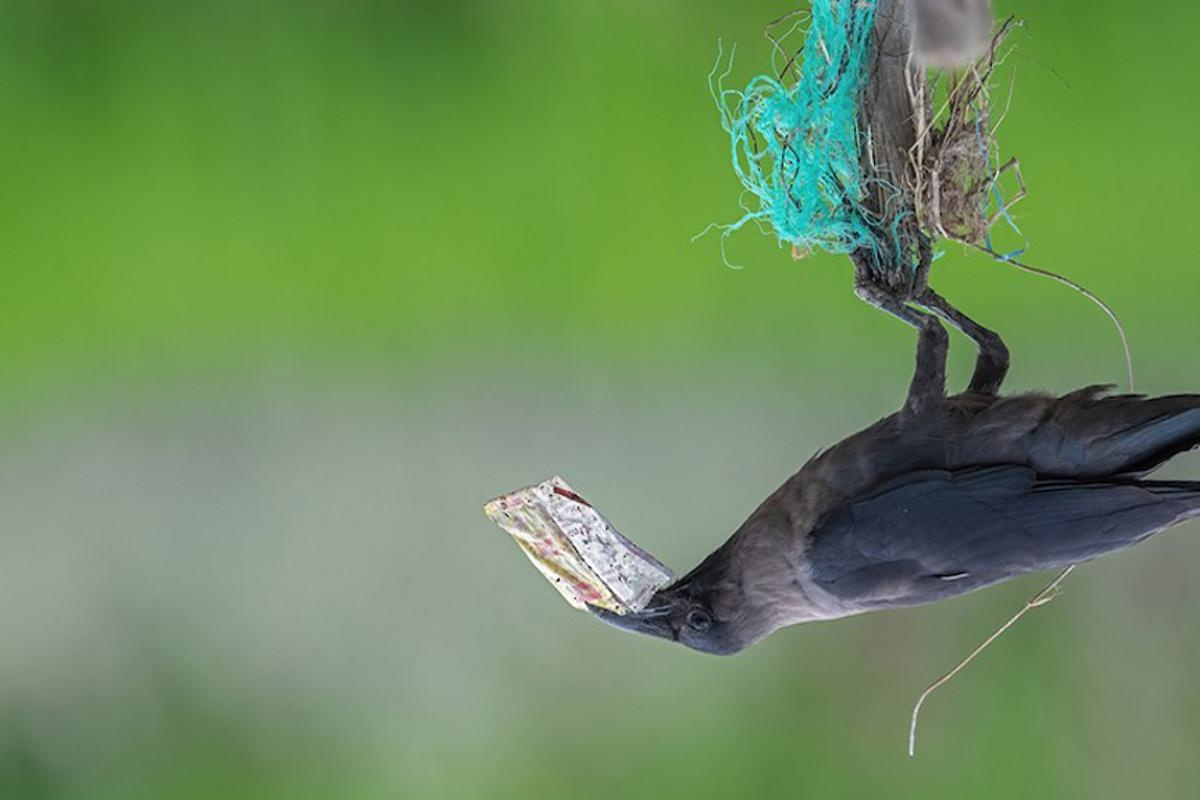crow: (564, 266, 1200, 724)
